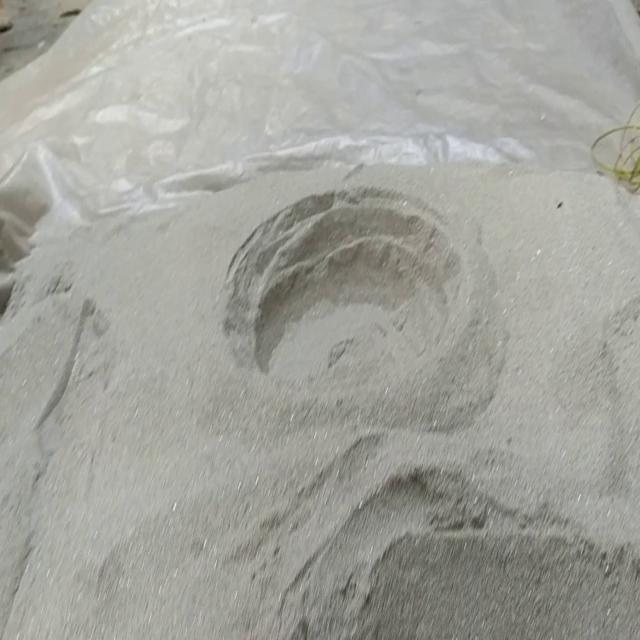C20: (237, 191, 458, 380)
